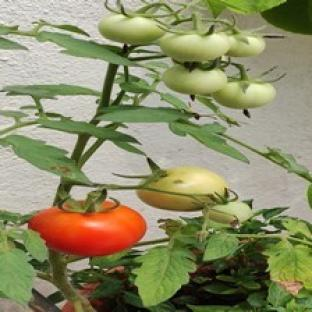Tomato: (28, 201, 146, 256), (137, 166, 227, 211), (159, 33, 231, 62), (162, 65, 227, 96), (98, 14, 164, 44), (212, 81, 275, 108), (209, 201, 252, 227), (226, 34, 266, 57), (80, 283, 111, 311)
